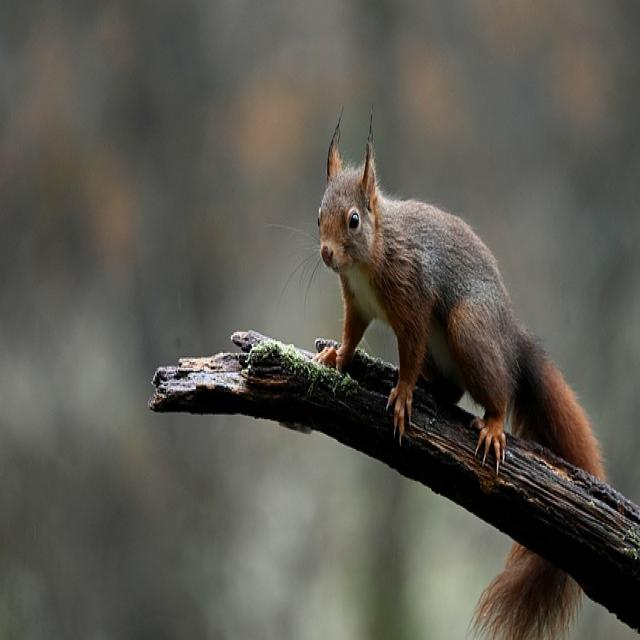Herbivorous: (317, 137, 608, 485)
